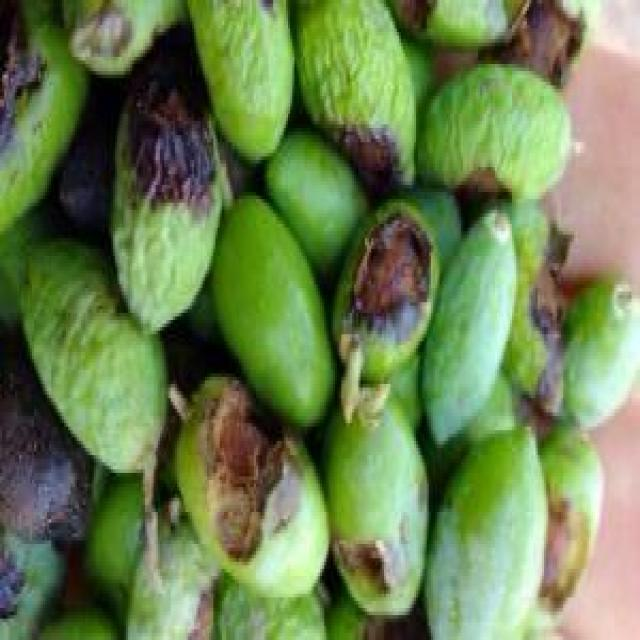Anthracnose: (175, 377, 326, 594), (111, 82, 209, 327), (324, 394, 426, 612), (299, 0, 414, 185), (418, 64, 570, 196), (332, 199, 438, 377)
